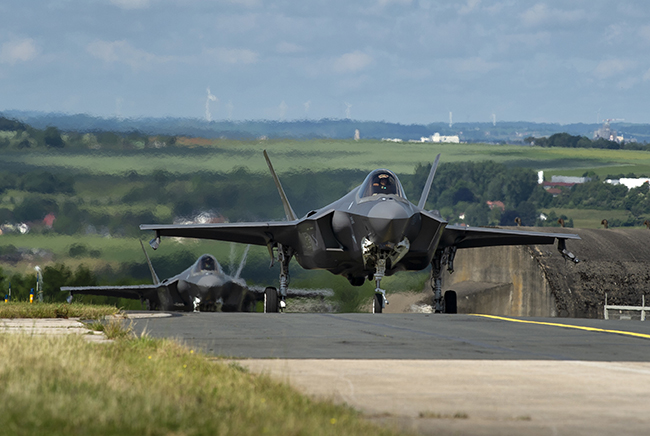F-35 Lightning: (136, 135, 592, 320), (56, 239, 257, 312)
